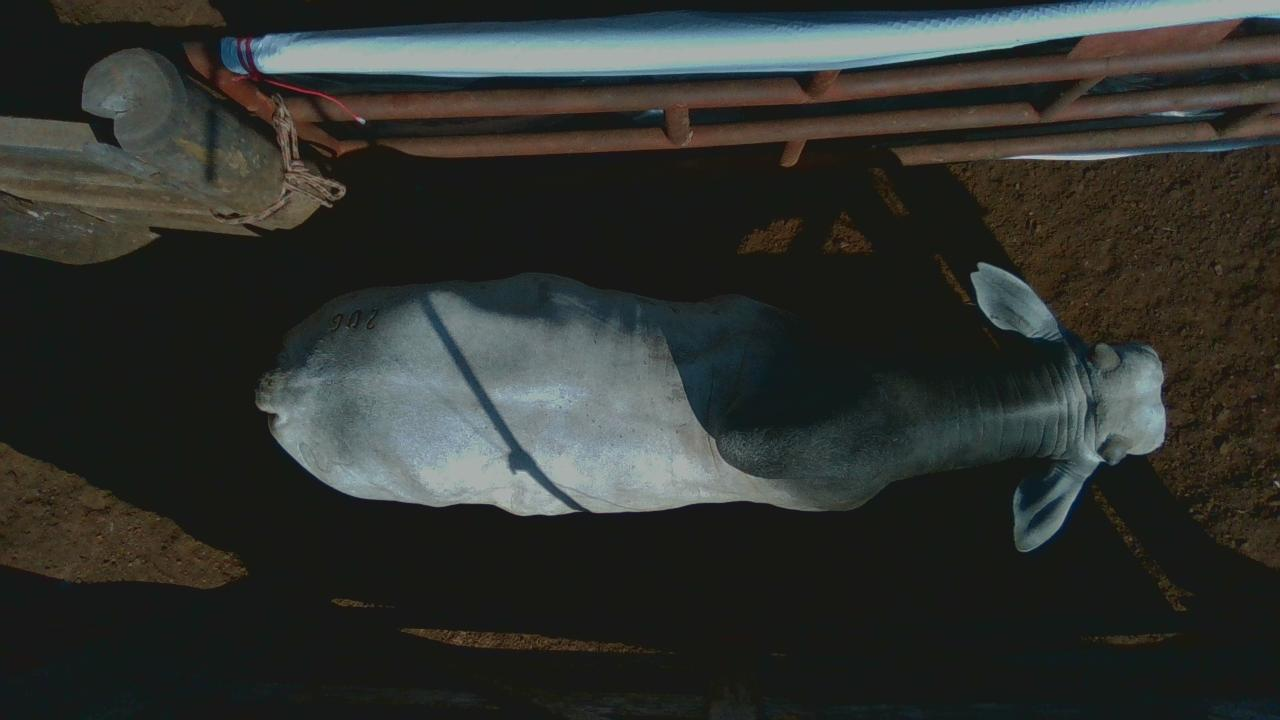cattle: (254, 258, 1167, 552)
